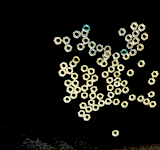nut: (73, 30, 81, 39), (63, 36, 71, 45), (54, 37, 63, 45), (77, 43, 86, 51), (88, 41, 97, 49), (89, 48, 97, 57), (72, 56, 81, 64), (138, 24, 146, 32), (131, 22, 139, 30), (119, 28, 127, 36), (132, 29, 140, 37), (141, 33, 149, 41), (133, 37, 141, 45), (125, 34, 133, 42), (137, 43, 145, 51), (113, 52, 121, 60), (83, 24, 91, 32), (65, 44, 73, 52), (96, 44, 104, 52), (69, 60, 77, 68), (60, 62, 68, 70), (66, 67, 74, 75), (59, 69, 67, 77), (81, 65, 89, 73), (83, 73, 91, 81), (71, 72, 79, 80), (74, 86, 82, 94), (78, 110, 86, 118), (82, 37, 91, 44), (151, 71, 160, 78), (81, 30, 89, 37), (104, 46, 112, 53), (104, 50, 112, 57), (102, 53, 110, 60), (97, 57, 104, 65), (101, 60, 108, 68), (112, 60, 120, 67), (138, 60, 146, 67), (148, 78, 156, 85), (118, 64, 125, 72), (109, 65, 116, 73), (114, 71, 122, 78), (127, 70, 135, 77), (88, 68, 96, 75), (72, 80, 79, 88), (65, 79, 72, 87), (67, 86, 74, 94), (70, 92, 78, 99), (64, 96, 72, 103), (81, 85, 89, 92), (107, 84, 114, 92), (148, 91, 156, 98), (129, 94, 136, 102), (115, 88, 123, 95), (108, 91, 115, 99), (113, 99, 121, 106), (105, 98, 113, 105), (89, 93, 97, 100), (81, 92, 89, 99), (98, 100, 106, 107), (88, 100, 96, 107), (80, 102, 87, 110), (93, 104, 100, 112), (127, 42, 134, 49), (130, 49, 137, 56), (121, 49, 128, 56), (123, 53, 130, 60), (102, 71, 109, 78), (92, 75, 99, 82), (87, 80, 94, 87), (107, 77, 114, 84), (121, 80, 128, 87), (114, 81, 121, 88), (150, 101, 157, 108), (122, 101, 129, 108), (91, 86, 98, 93), (97, 93, 104, 100), (86, 106, 93, 113), (84, 114, 91, 121), (113, 130, 120, 137), (114, 77, 122, 83), (137, 96, 145, 102), (122, 87, 130, 93), (144, 99, 151, 105)
